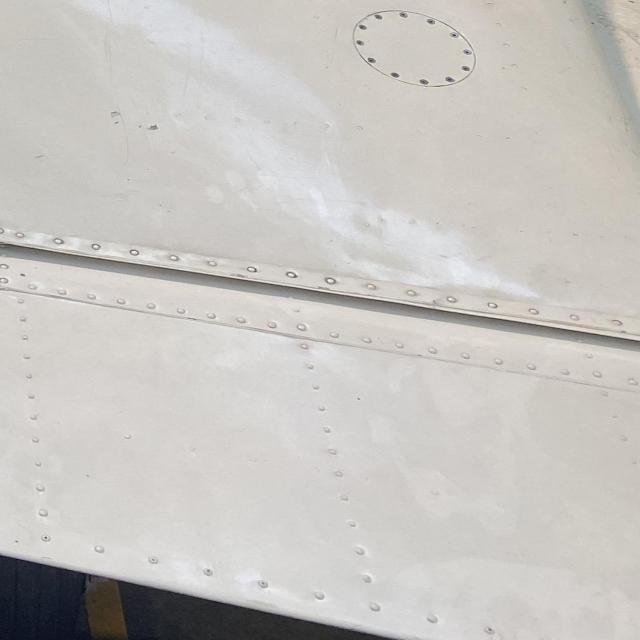Paint-off: (133, 118, 164, 137), (110, 110, 125, 128)
